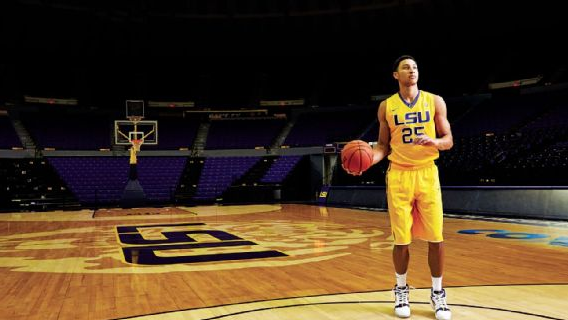ball: (341, 139, 372, 175)
basket: (130, 138, 143, 153)
player: (378, 57, 452, 320)
